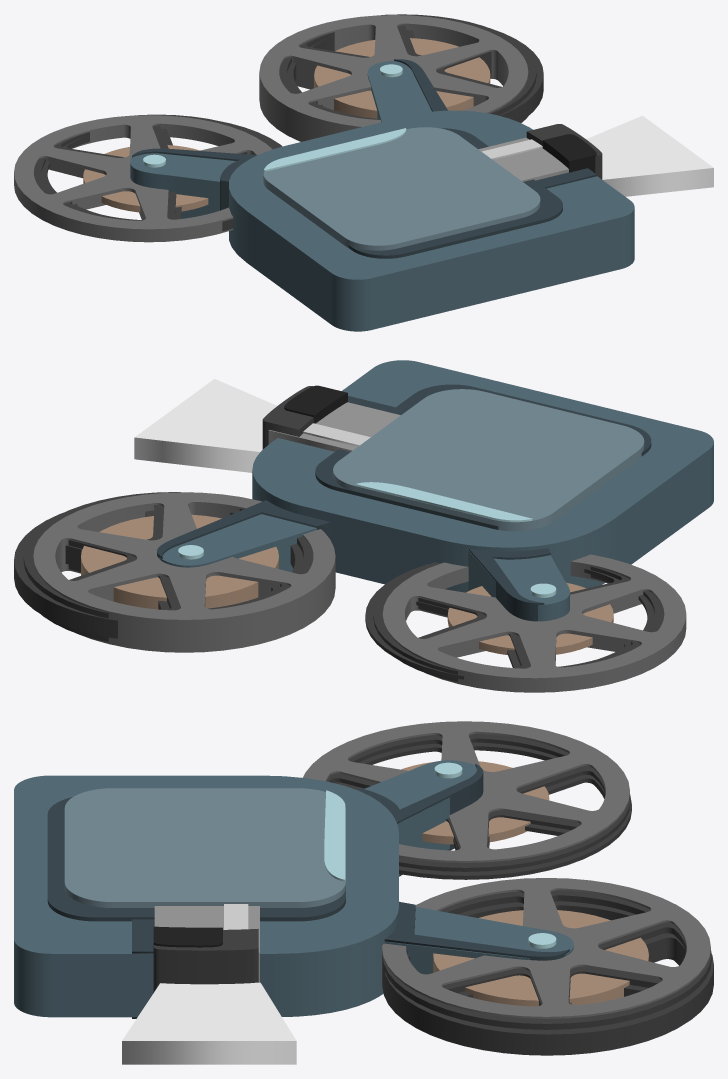
File: emoji_u1f4fd.glb
3 views of the same model, one above another, from view 1: azimuth 30°, elevation 25°; view 2: azimuth 150°, elevation 25°; view 3: azimuth 270°, elevation 25° (orthographic). The views are drawn at different scales.
Visible parts, largest first — view 1: emoji_u1f4fd; view 2: emoji_u1f4fd; view 3: emoji_u1f4fd.
Boxes of the visible parts, x1,y1,x2,y2 form: emoji_u1f4fd: (14, 14, 713, 331); emoji_u1f4fd: (14, 360, 713, 692); emoji_u1f4fd: (14, 721, 713, 1064).
Size of the model in its own units: 0.035 by 0.0048 by 0.032.
